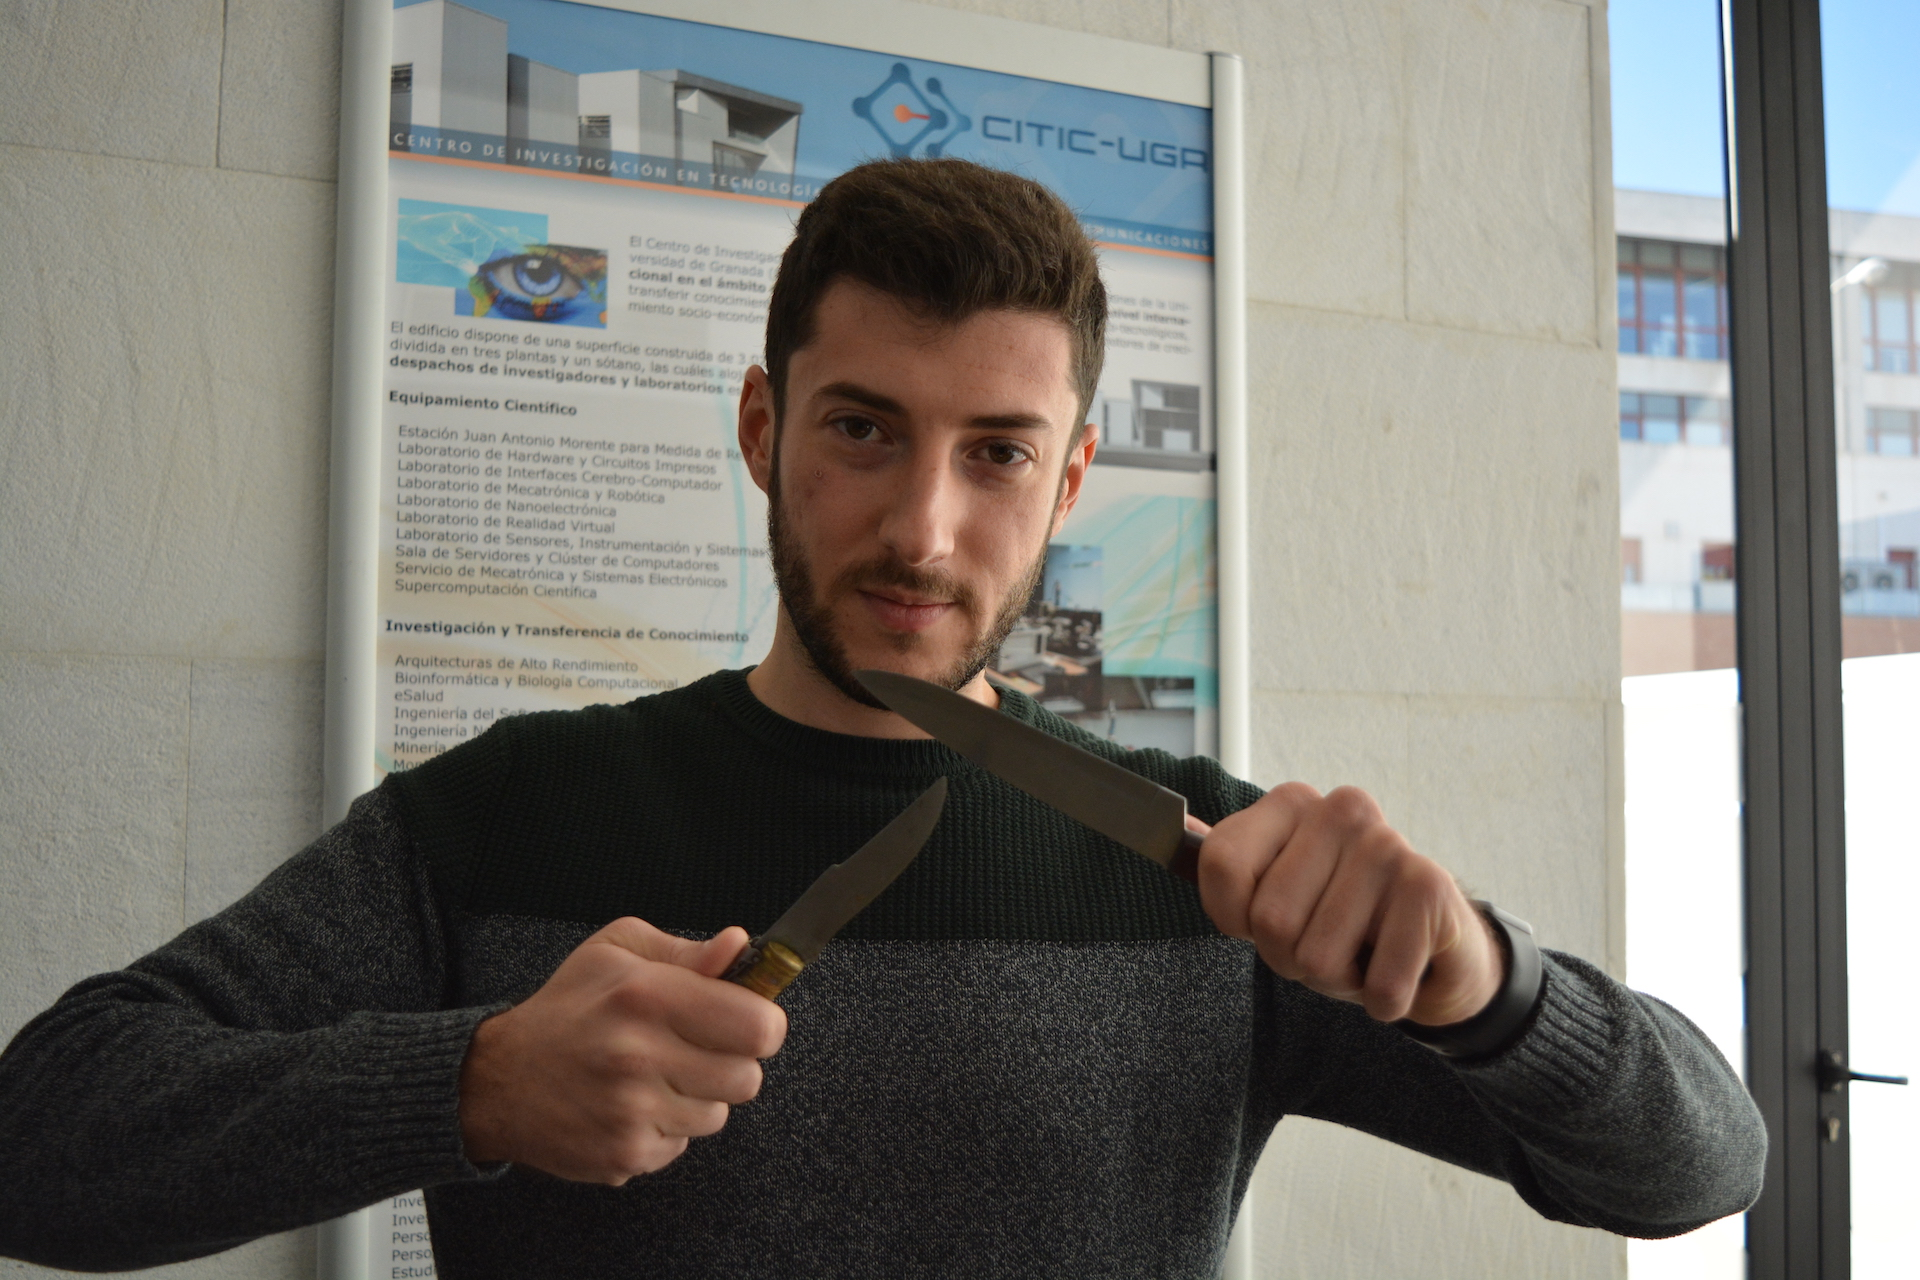knife: (841, 656, 1223, 897), (700, 766, 953, 1024)
